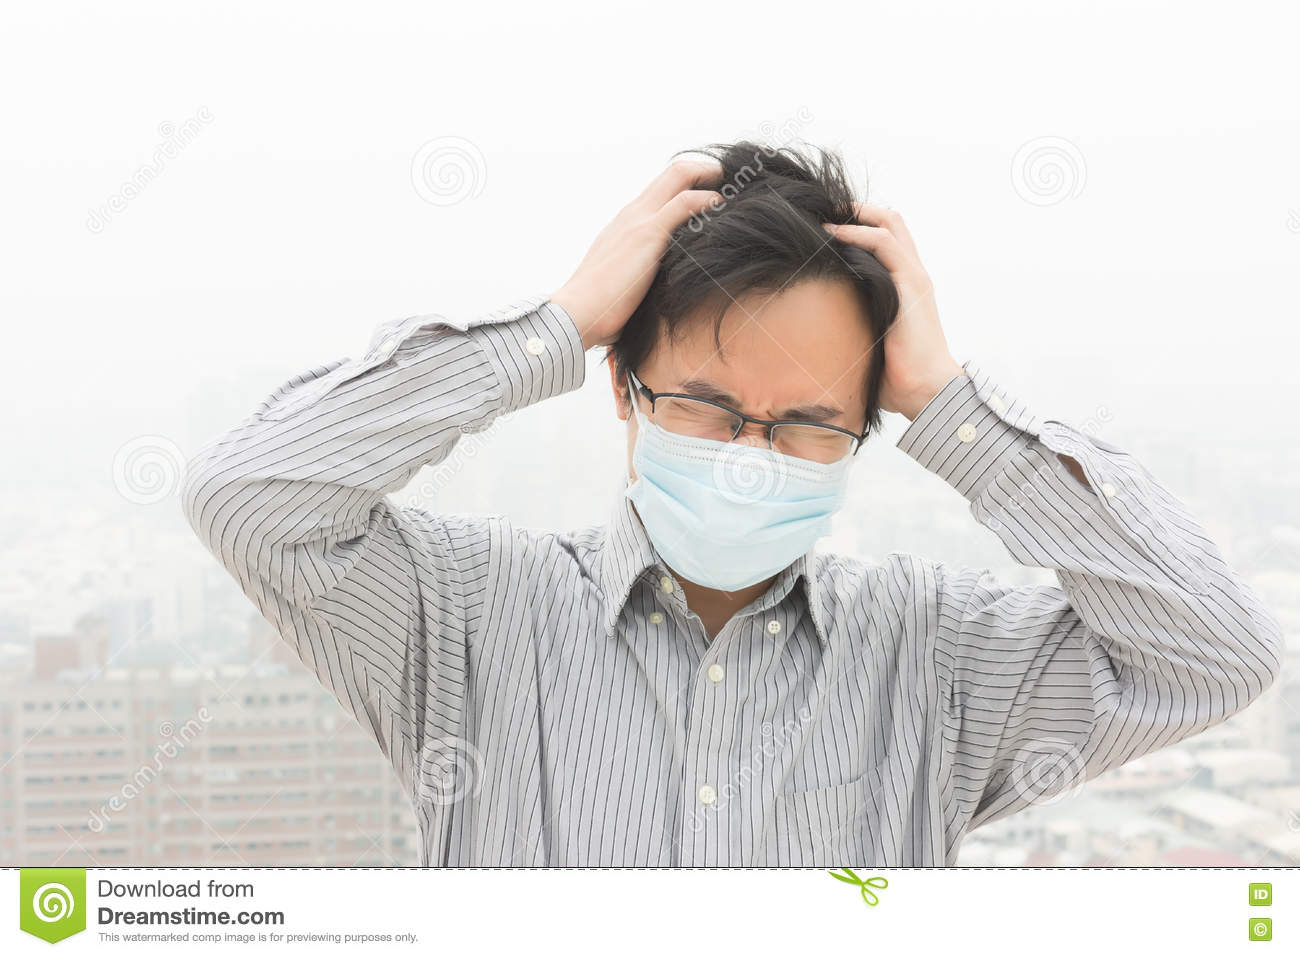mask: (631, 427, 850, 596)
